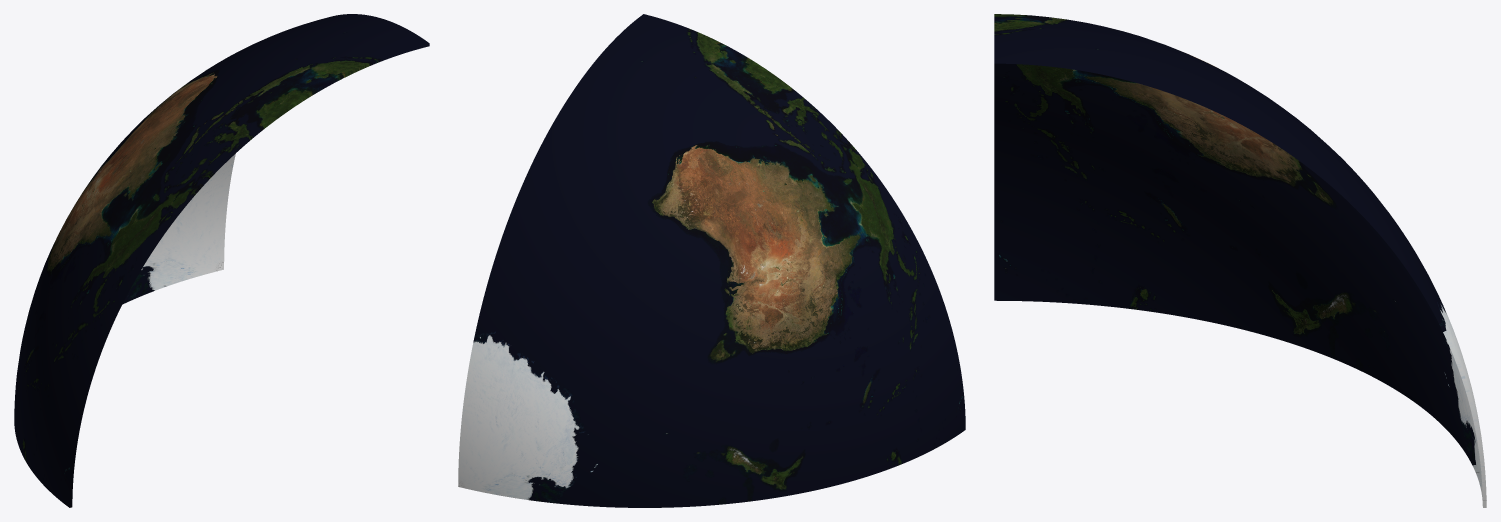
3 views of the same model, side by side, from view 1: azimuth 30°, elevation 25°; view 2: azimuth 150°, elevation 25°; view 3: azimuth 270°, elevation 25° (orthographic). The views are drawn at different scales.
Visible parts, largest first — view 1: DefaultName.003, DefaultName.001, DefaultName.007, DefaultName.005; view 2: DefaultName.003, DefaultName.001, DefaultName.005, DefaultName.007; view 3: DefaultName.003, DefaultName.005, DefaultName.001, DefaultName.007.
Boxes of the visible parts, x1,y1,x2,y2 form: DefaultName.003: [14, 165, 176, 507]; DefaultName.001: [102, 14, 429, 216]; DefaultName.007: [170, 153, 235, 269]; DefaultName.005: [122, 226, 223, 304]; DefaultName.003: [674, 168, 965, 502]; DefaultName.001: [513, 14, 871, 316]; DefaultName.005: [458, 318, 740, 507]; DefaultName.007: [458, 208, 673, 486]; DefaultName.003: [994, 63, 1341, 360]; DefaultName.005: [1339, 196, 1482, 505]; DefaultName.001: [994, 14, 1341, 192]; DefaultName.007: [1339, 158, 1486, 507].
Bounding box in the file's own units: 63781 × 63781 × 63568.
4 materials, 4 textured.
